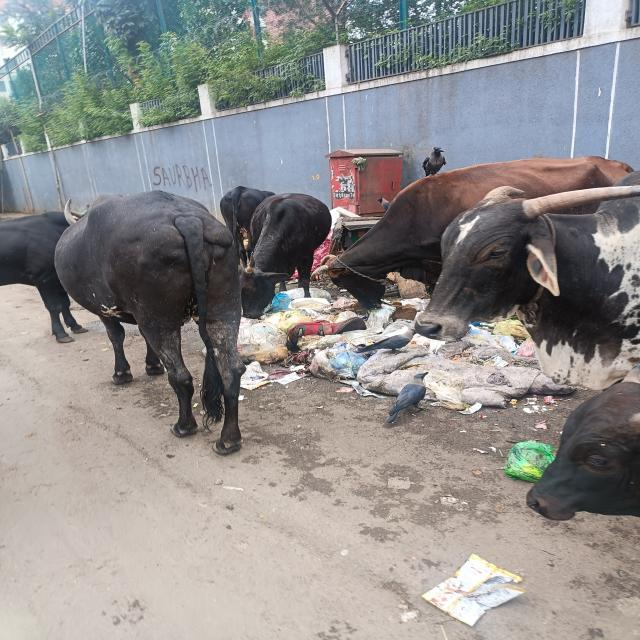garbage: (241, 291, 533, 420)
